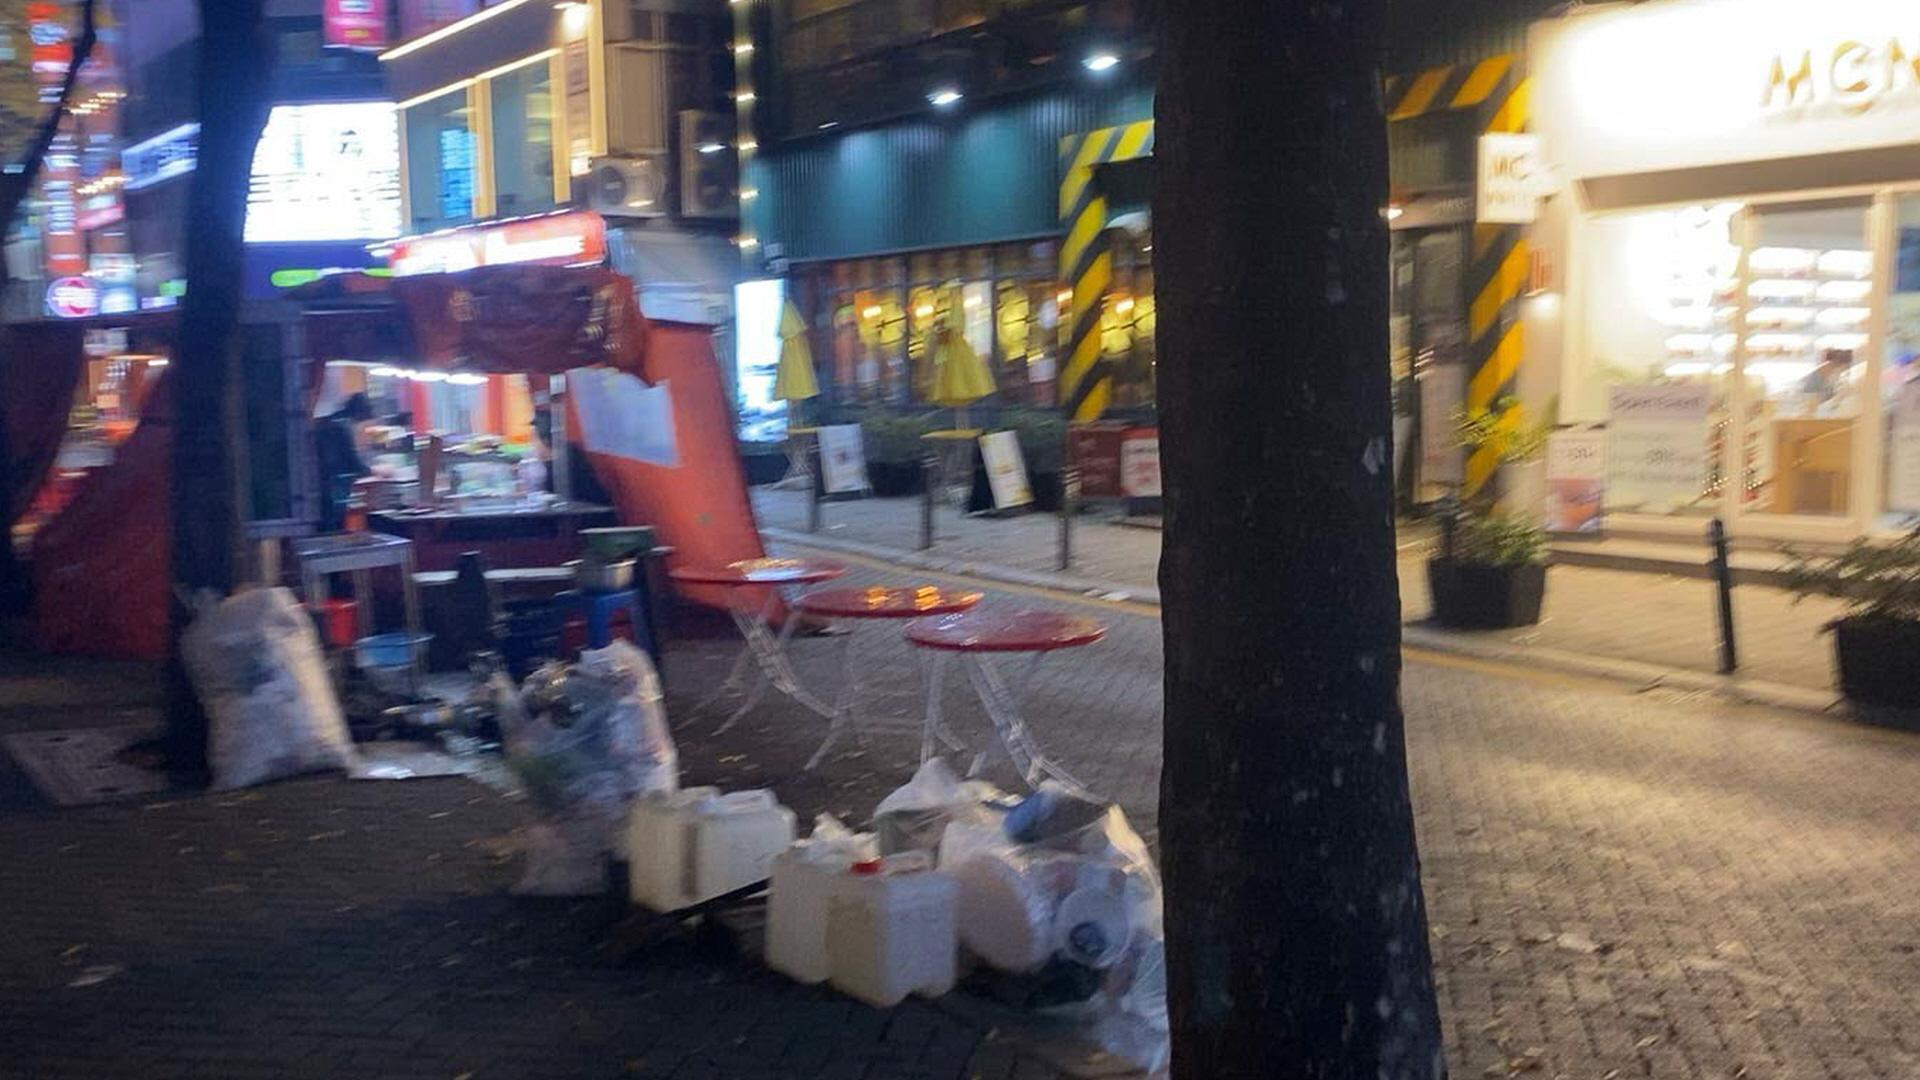white_bag: (473, 630, 702, 913), (165, 567, 373, 791)
